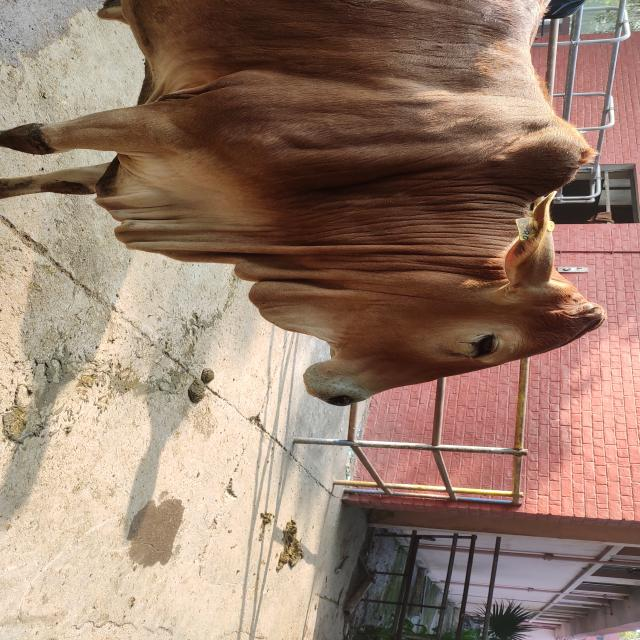cow: (1, 0, 607, 407)
hump: (545, 104, 600, 210)
